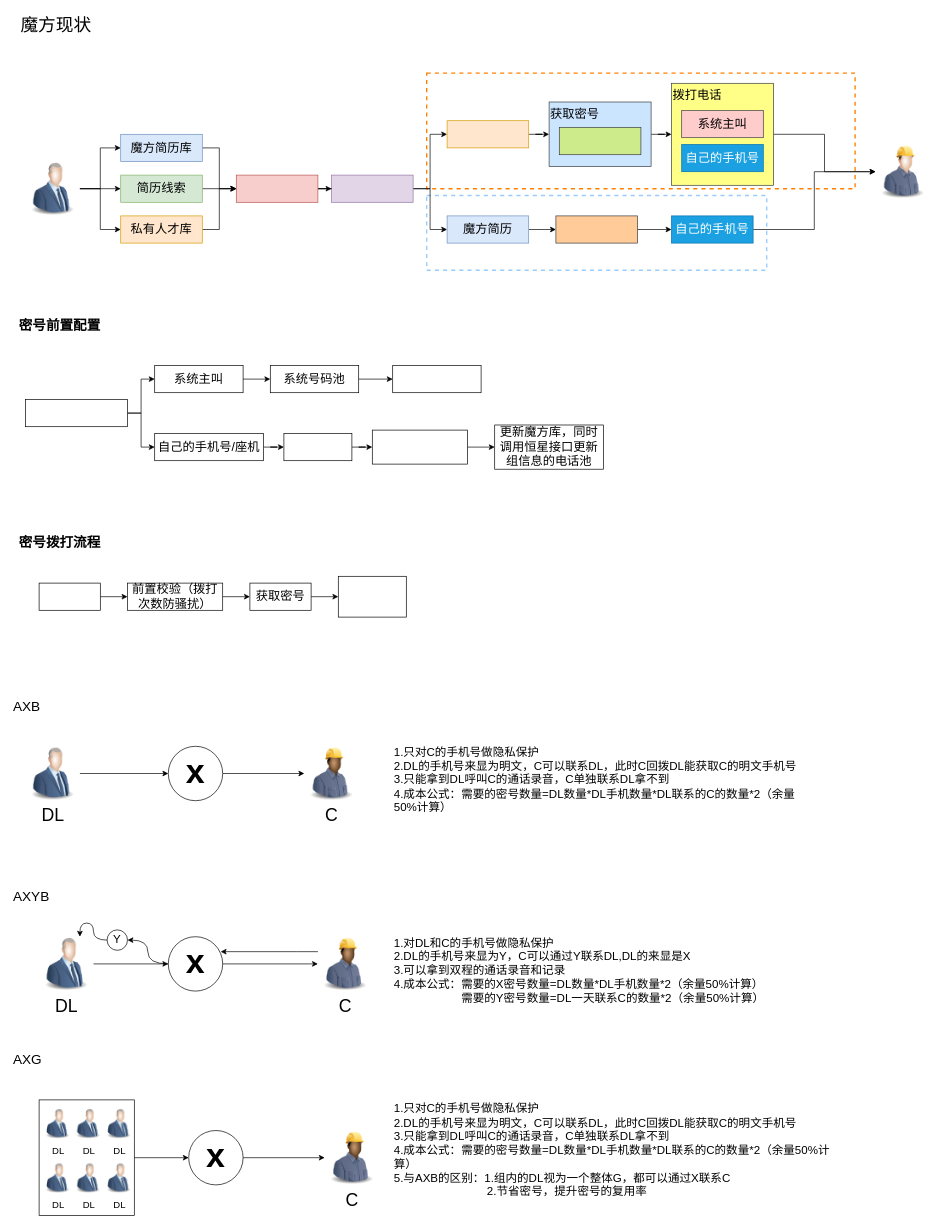
Image size: 941x1227. Some labels were removed from this diagram. The shapes that lost their labels are listed below. From the top down, each one's centre as x and y in pixels, then its label:
At point 487,134: "恒星简历".
At point 600,141: "A X G".
At point 277,188: "下载简历".
At point 372,188: "简历详情页".
At point 596,229: "展示明文手机号".
At point 436,379: "wconfig中保存".
At point 76,413: "主叫号码组管理".
At point 317,447: "添加".
At point 420,446: "排除成都的号码（政策限制）".
At point 69,596: "一键外呼".
At point 372,596: "唤醒前端拨打SDK".
